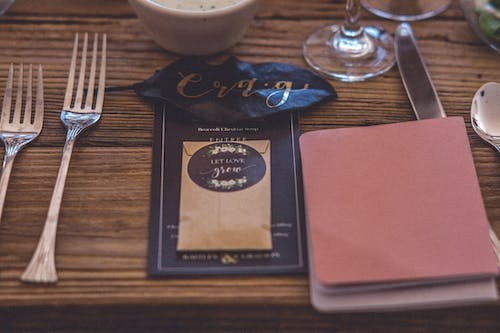knife: (392, 23, 448, 123)
